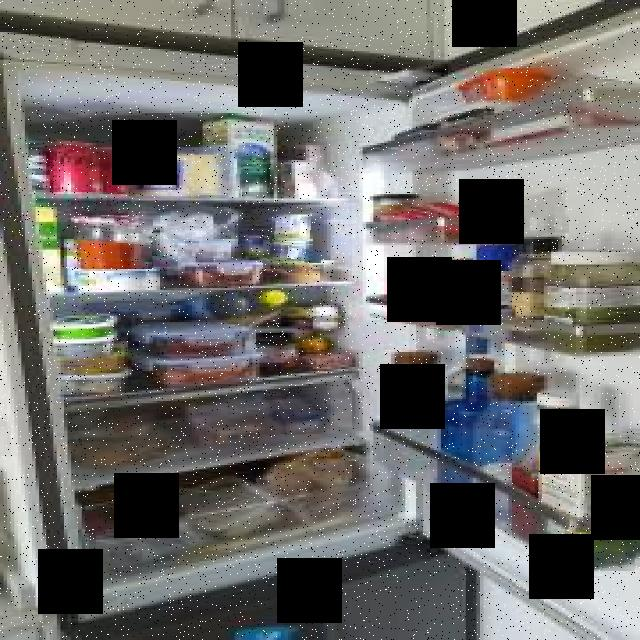butter: (253, 387, 327, 434)
cheese: (126, 150, 244, 198)
lemon: (299, 337, 327, 354)
marmelade: (416, 258, 473, 329)
milk: (530, 430, 640, 571)
tomato_sauce: (67, 213, 153, 269), (388, 277, 426, 322)
yogurt: (260, 213, 324, 241), (261, 240, 322, 263), (236, 232, 272, 257)
